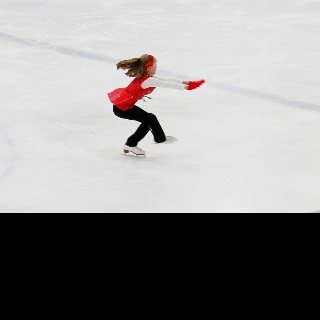without_mask: (151, 57, 157, 75)
